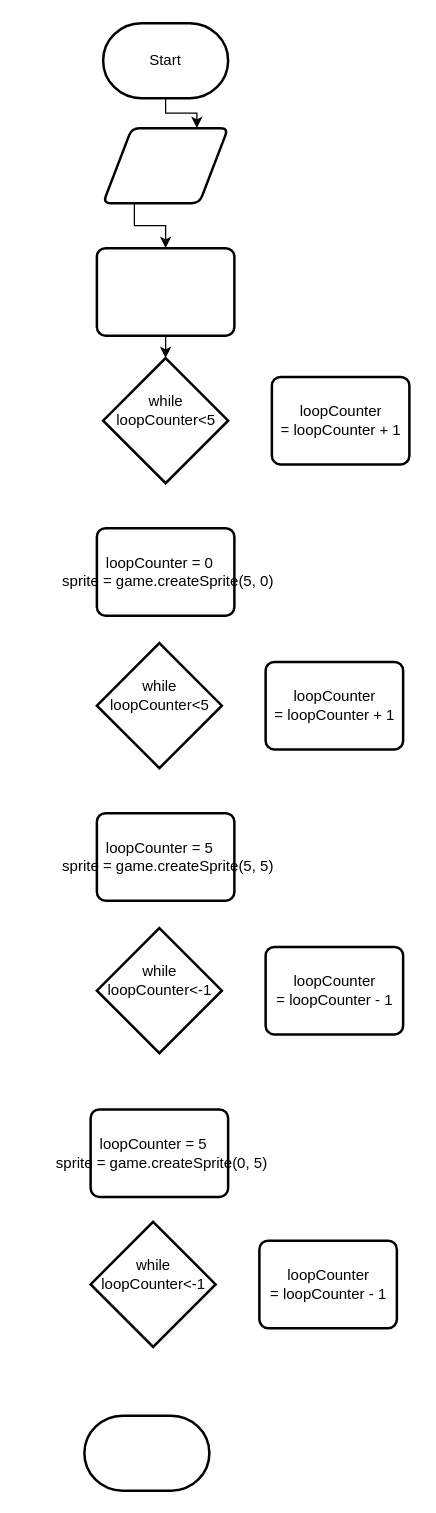
This 436x1513 diagram has some shape labels left out. Here are the shapes that lost their labels. From the top down, the centre of each, then its label:
At point 165,165: "press A".
At point 165,291: "loopCounter = 0 sprite = game.createSprite(0, 0)".
At point 146,1452: "Stop".
